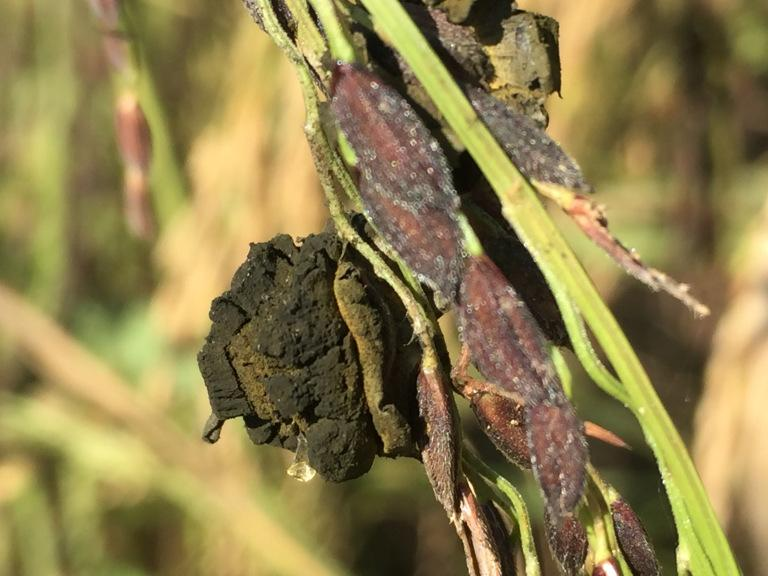False Smut: (197, 230, 450, 482), (377, 0, 587, 140)
